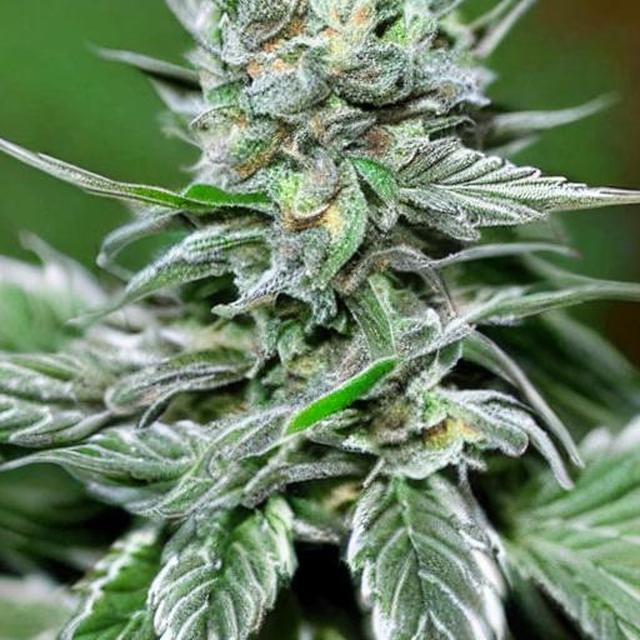Marijuana Plant: (5, 24, 627, 640)
